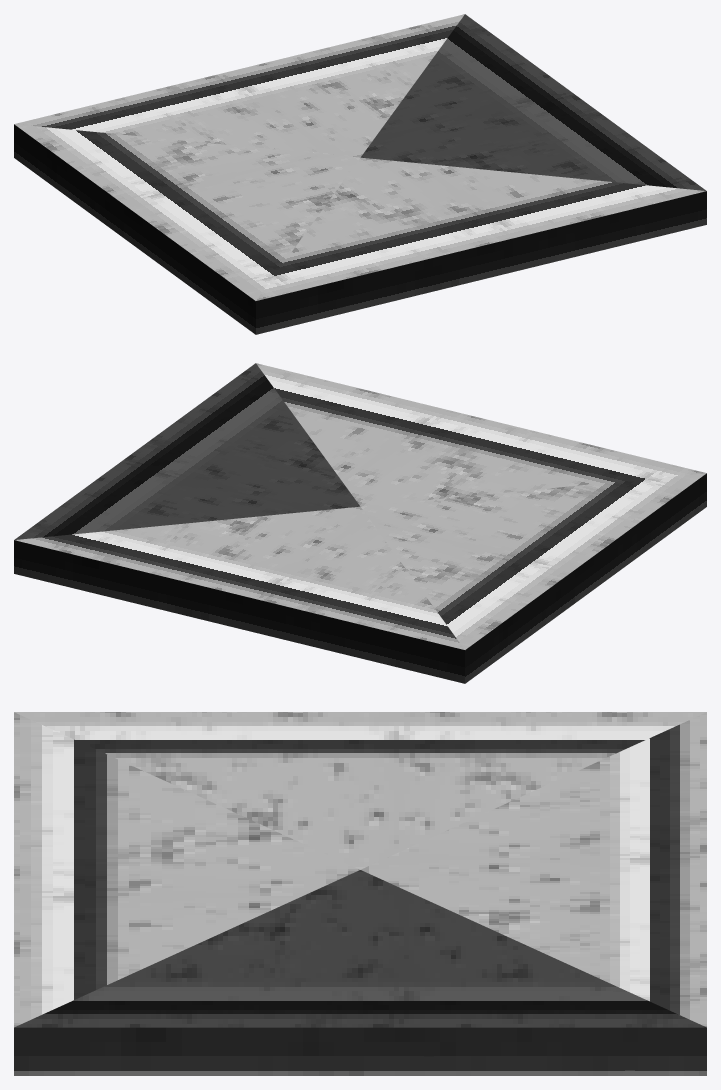
The model's file is train_escape_hatch.glb.
The picture shows the model from 3 angles, top to bottom: view 1: azimuth 30°, elevation 25°; view 2: azimuth 150°, elevation 25°; view 3: azimuth 270°, elevation 25°; orthographic projection. The views are drawn at different scales.
Visible parts, largest first — view 1: Object; view 2: Object; view 3: Object.
Boxes of the visible parts, <box> form: Object: <box>14,14,706,334</box>; Object: <box>14,363,706,683</box>; Object: <box>14,712,706,1075</box>.
Bounding box in the file's own units: 1.05 × 0.0753 × 0.979.
3 materials, 3 textured.
